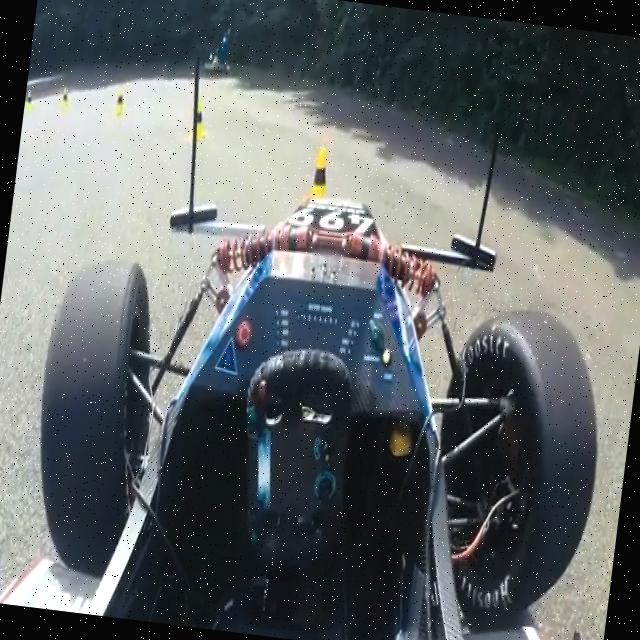yellow_cone: (301, 142, 336, 214), (188, 101, 209, 144), (112, 88, 128, 118)
